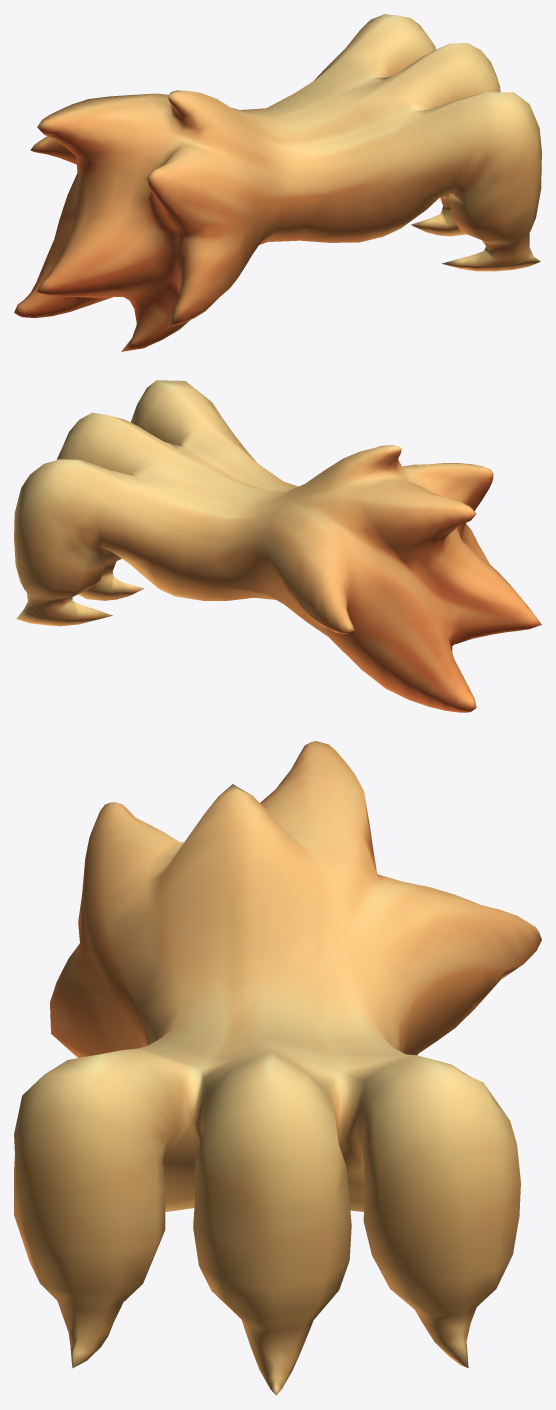
File: ROLE_Panther_Palm_Effect.fbx
3 views of the same model, one above another, from view 1: azimuth 30°, elevation 25°; view 2: azimuth 150°, elevation 25°; view 3: azimuth 270°, elevation 25° (orthographic). The views are drawn at different scales.
Visible parts, largest first — view 1: ROLE_Panther_palm_effect_0_mesh; view 2: ROLE_Panther_palm_effect_0_mesh; view 3: ROLE_Panther_palm_effect_0_mesh.
Boxes of the visible parts, bbox=[...] form: ROLE_Panther_palm_effect_0_mesh: bbox=[14, 14, 541, 351]; ROLE_Panther_palm_effect_0_mesh: bbox=[14, 380, 541, 712]; ROLE_Panther_palm_effect_0_mesh: bbox=[14, 741, 541, 1395].
Bounding box in the file's own units: 150 × 72.69 × 88.62.
